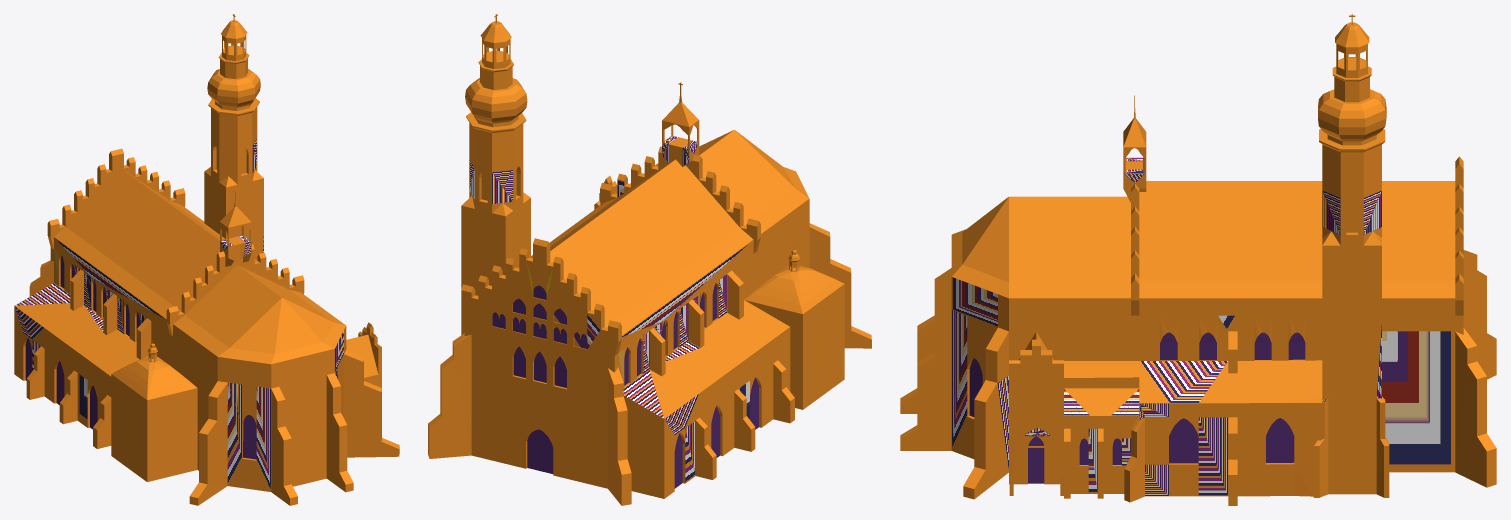
File: Kościół św Jana Chrzciciela.obj
The picture shows the model from 3 angles, left to right: view 1: azimuth 30°, elevation 25°; view 2: azimuth 150°, elevation 25°; view 3: azimuth 270°, elevation 25°; orthographic projection. The views are drawn at different scales.
Visible parts, largest first — view 1: Cube_Cube.004; view 2: Cube_Cube.004; view 3: Cube_Cube.004.
Boxes of the visible parts, x1,y1,x2,y2 form: Cube_Cube.004: [14, 14, 399, 505]; Cube_Cube.004: [428, 14, 871, 505]; Cube_Cube.004: [900, 14, 1496, 505].
Bounding box in the file's own units: 34.62 × 48.81 × 56.41.
